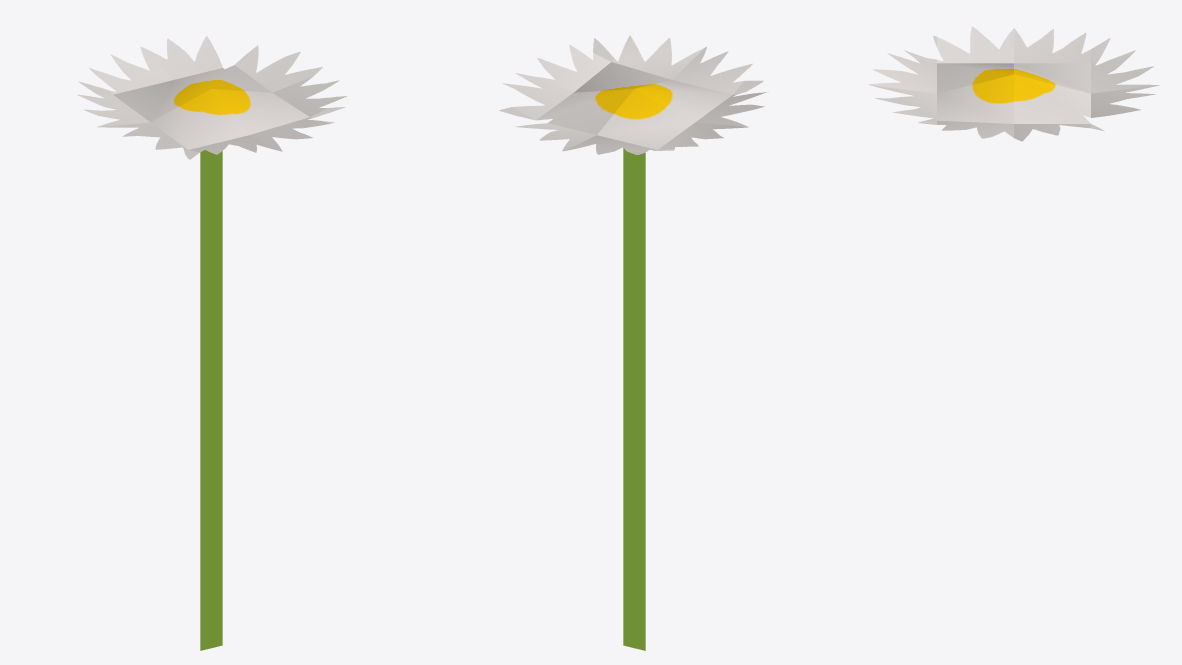
Rendered from Flower.fbx.
3 views of the same model, side by side, from view 1: azimuth 30°, elevation 25°; view 2: azimuth 150°, elevation 25°; view 3: azimuth 270°, elevation 25° (orthographic). The views are drawn at different scales.
Visible parts, largest first — view 1: Flower; view 2: Flower; view 3: Flower.
Boxes of the visible parts, <box> form: Flower: <box>77,36,346,650</box>; Flower: <box>499,35,768,650</box>; Flower: <box>867,26,1159,141</box>.
Bounding box in the file's own units: 4.8 × 10.56 × 5.16.
